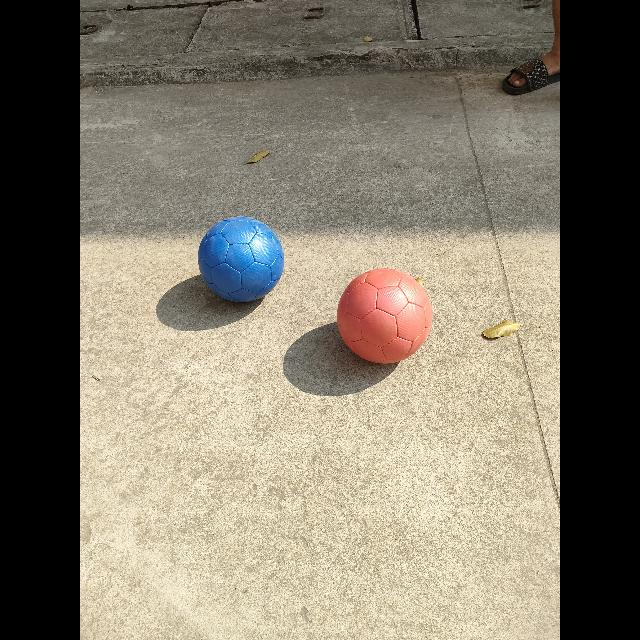B: (197, 217, 285, 306)
R: (337, 269, 433, 367)
